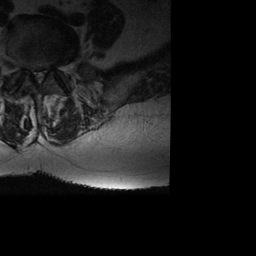CCS_severe_stenosis: (36, 66, 42, 88)
LFS_severe_stenosis: (48, 59, 55, 77)
LLS_severe_stenosis: (42, 64, 47, 81)
RFS_severe_stenosis: (24, 58, 31, 79)
RLS_severe_stenosis: (31, 65, 36, 84)
